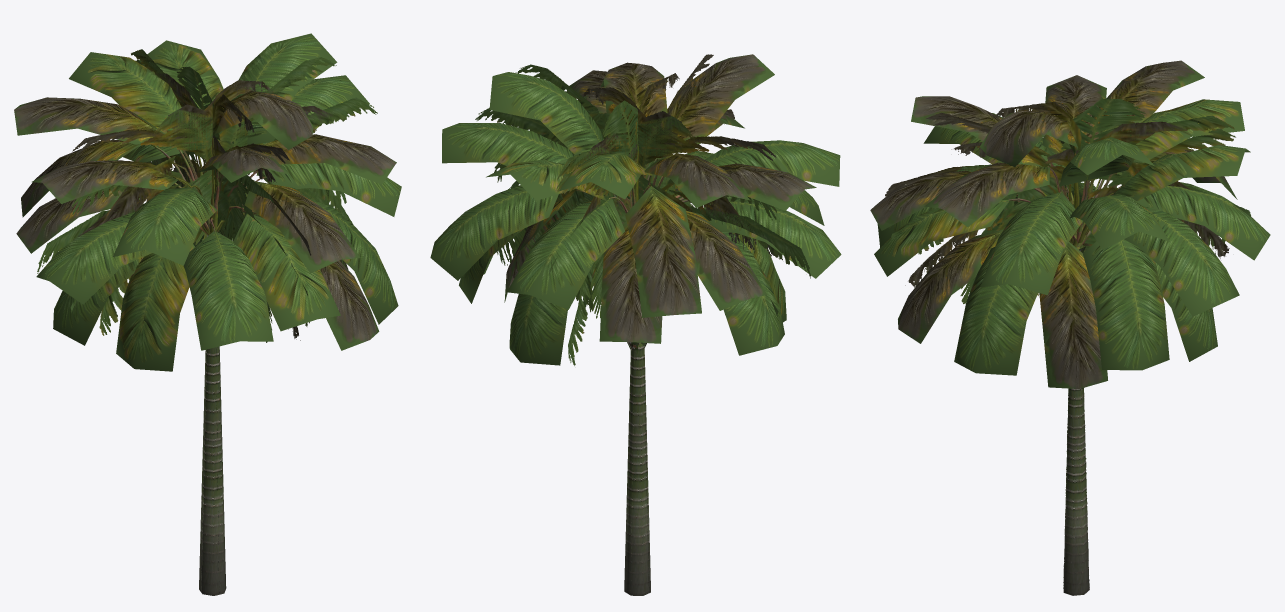
File: Arcea2.fbx
The picture shows the model from 3 angles, left to right: view 1: azimuth 30°, elevation 25°; view 2: azimuth 150°, elevation 25°; view 3: azimuth 270°, elevation 25°; orthographic projection. The views are drawn at different scales.
Parts seen in each view (by area): view 1: LOD0, Billboard; view 2: LOD0, Billboard; view 3: LOD0, Billboard.
Part boxes in pixels (left/top/right/bottom): LOD0: left=14, top=33, right=401, bottom=595; Billboard: left=37, top=49, right=377, bottom=593; LOD0: left=430, top=54, right=841, bottom=595; Billboard: left=475, top=54, right=810, bottom=594; LOD0: left=870, top=60, right=1270, bottom=595; Billboard: left=885, top=99, right=1250, bottom=589.
Size of what is drawn, in the model's own units: 360 by 492 by 362.
